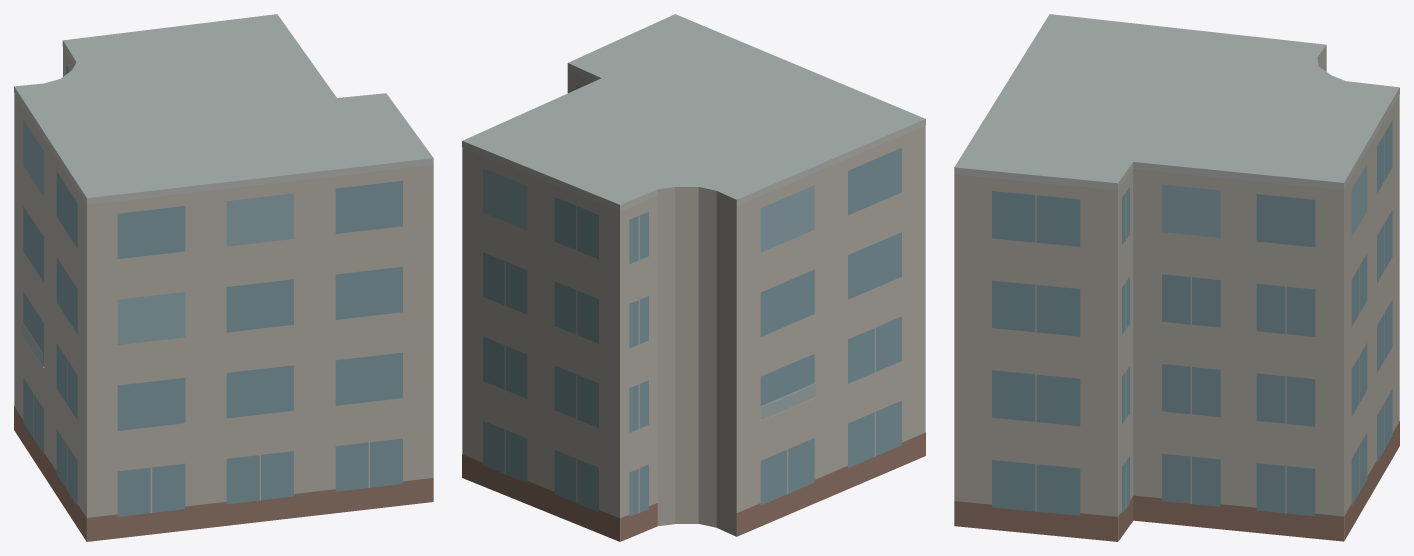
The model's file is survey-upis-32585094.glb.
3 renders of one model, left to right at view 1: azimuth 30°, elevation 25°; view 2: azimuth 150°, elevation 25°; view 3: azimuth 270°, elevation 25°, orthographic. The views are drawn at different scales.
Parts seen in each view (by area): view 1: survey-upis-32585094.tmp; view 2: survey-upis-32585094.tmp; view 3: survey-upis-32585094.tmp.
Part boxes in pixels (x1,y1,x2,y2): survey-upis-32585094.tmp: (14, 14, 433, 541); survey-upis-32585094.tmp: (462, 14, 925, 541); survey-upis-32585094.tmp: (954, 14, 1399, 541).
Bounding box in the file's own units: 12.84 × 12.68 × 14.28.
